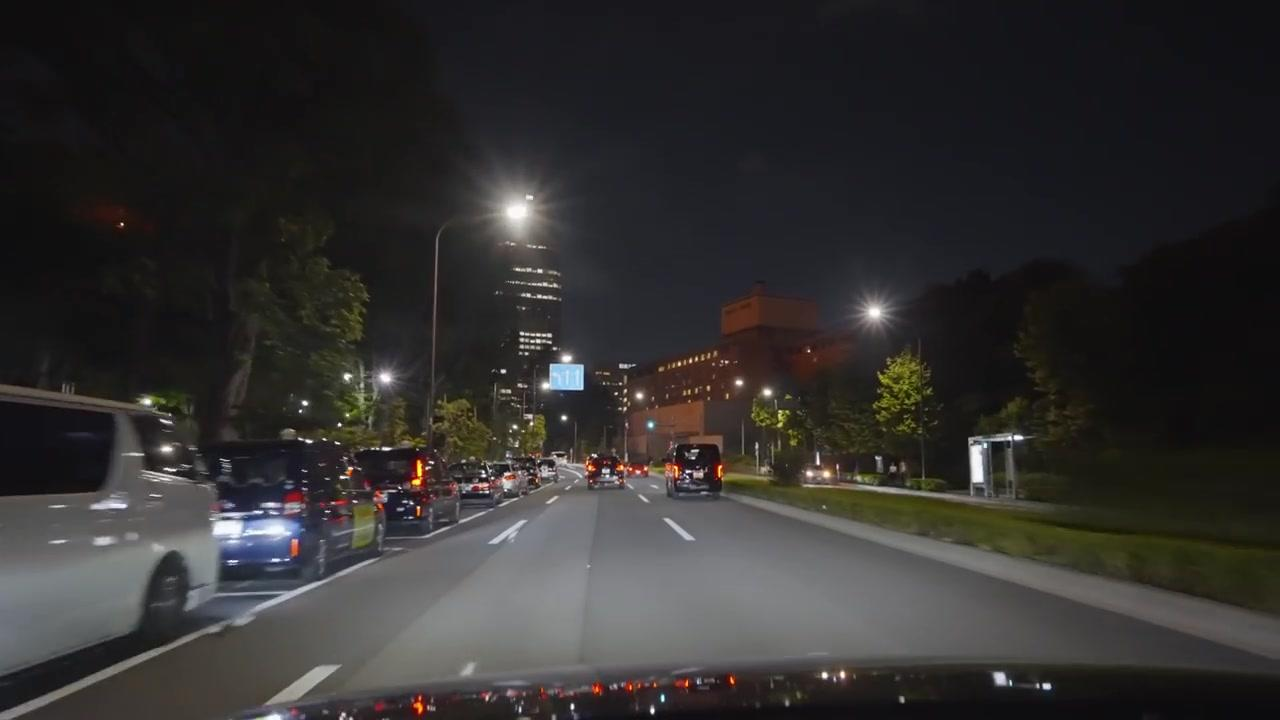bus: (664, 435, 725, 499)
car: (0, 385, 222, 680), (205, 439, 386, 583), (355, 446, 463, 537), (448, 461, 499, 502), (485, 461, 524, 500), (499, 464, 537, 496), (800, 465, 836, 485), (515, 464, 540, 491), (538, 458, 559, 482)
traffic light: (646, 418, 656, 432)
truck: (0, 383, 224, 679), (664, 435, 725, 498)
